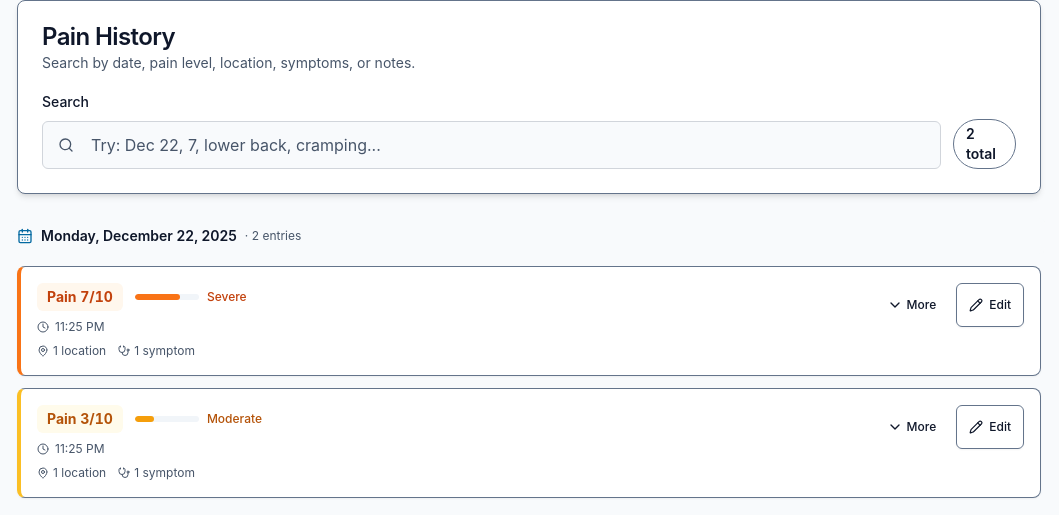
Test: HistoryPage › filters entries by search query
The image size is (1059, 515).
Type "cramping" into the field labelled "Search".
click(492, 145); type("cramping")  # box [42, 121, 941, 169]
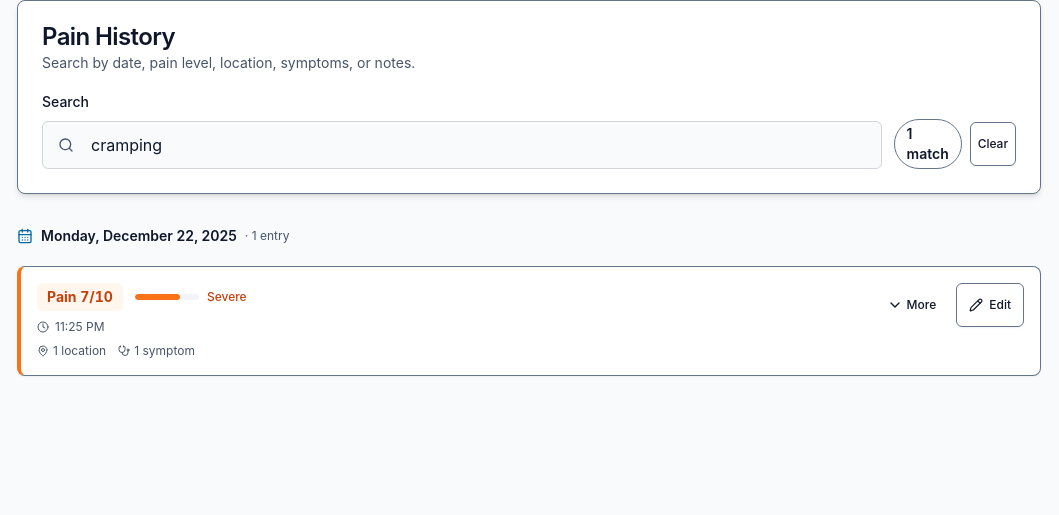
Expected: the text "Pain 7/10" is shown, [37, 283, 123, 311]
Expected: the text "Pain 3/10" is gone
